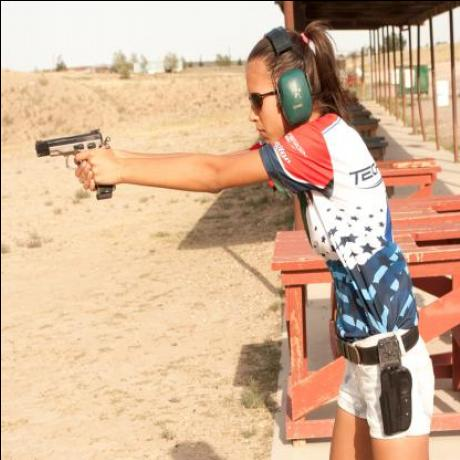1: (76, 19, 436, 460)
weapon: (27, 124, 120, 202)
